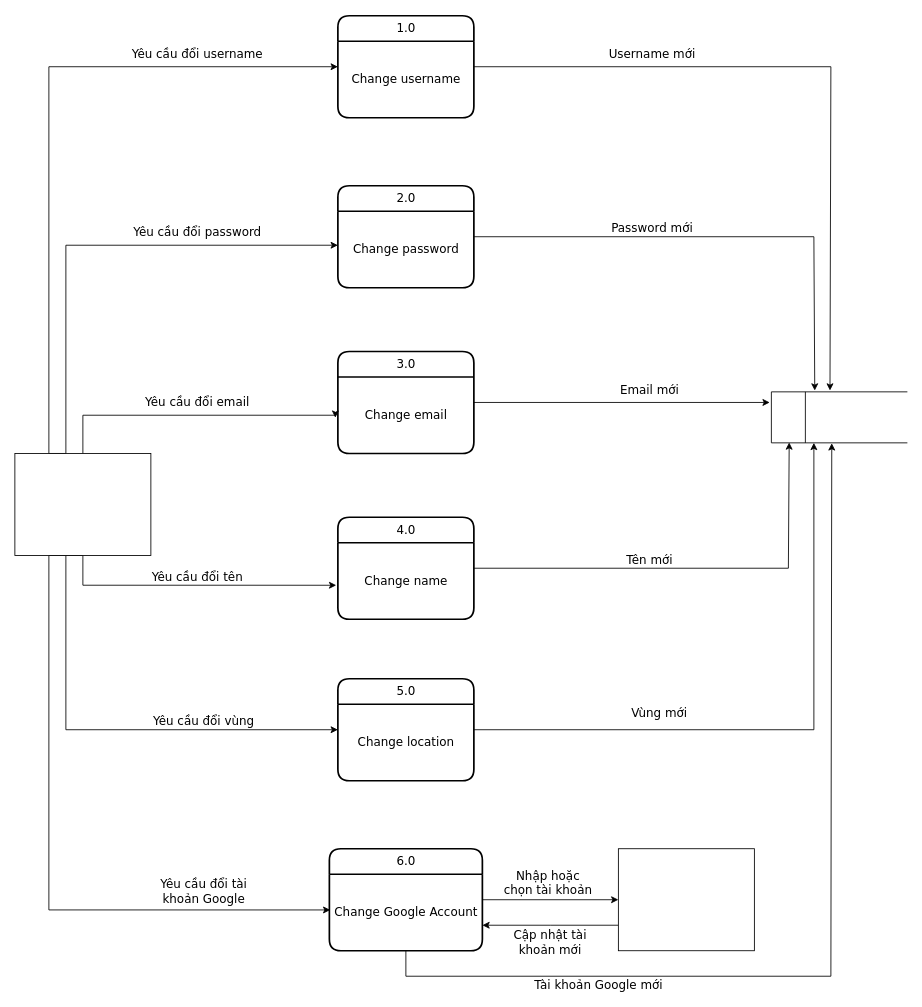
Image size: 922x1007. Some labels were removed from this diagram. The centre of each missing label's shape, as x and y in pixels:
"Database" goes at [839,417].
"Google" goes at [686,899].
"User" goes at [82,504].
